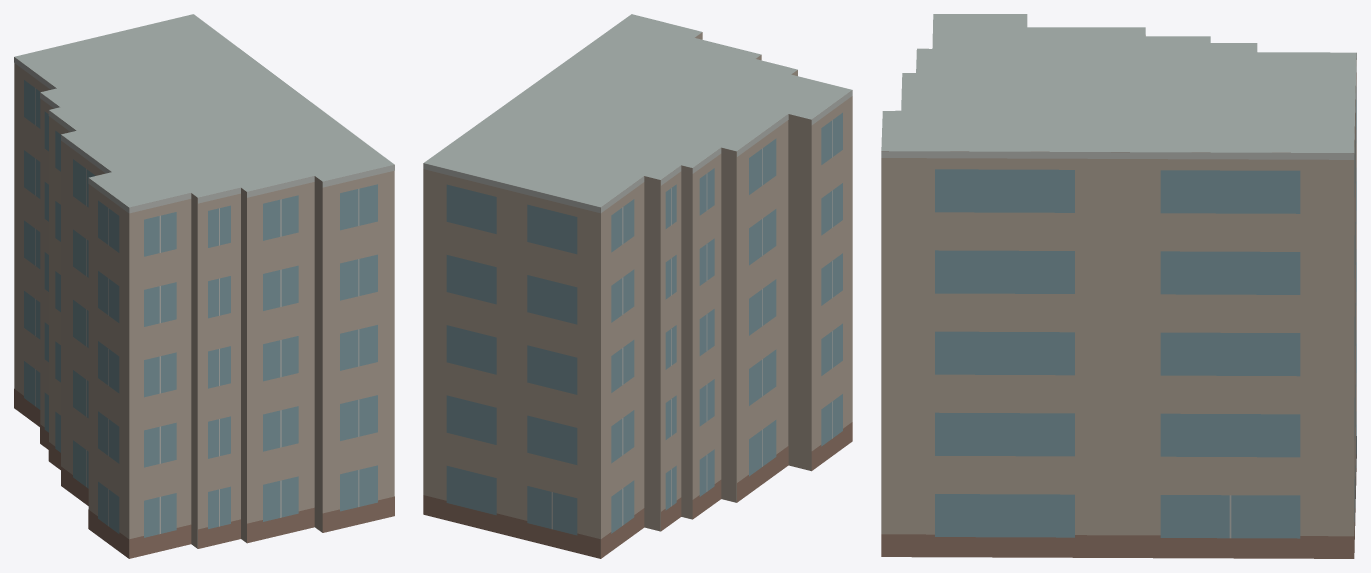
The model's file is survey-upis-32696335.glb.
3 views of the same model, side by side, from view 1: azimuth 30°, elevation 25°; view 2: azimuth 150°, elevation 25°; view 3: azimuth 270°, elevation 25° (orthographic). The views are drawn at different scales.
Visible parts, largest first — view 1: survey-upis-32696335.tmp; view 2: survey-upis-32696335.tmp; view 3: survey-upis-32696335.tmp.
Part boxes in pixels (box(x1,y1,x2,y2)): survey-upis-32696335.tmp: box(14, 14, 394, 558); survey-upis-32696335.tmp: box(423, 14, 852, 558); survey-upis-32696335.tmp: box(881, 14, 1356, 558).
Size of the model in its own units: 10.59 by 14.4 by 15.3.
